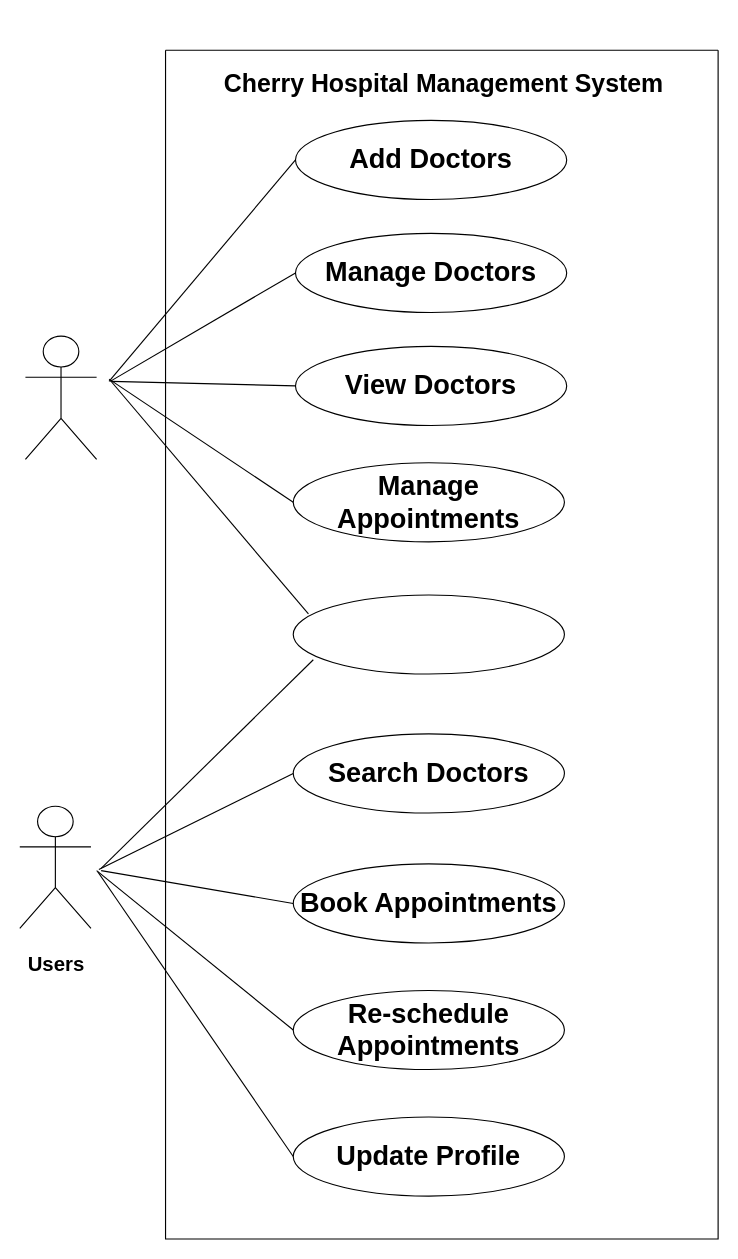
Some shapes in this 738 by 1259 pixel diagram are drawn without their labels. Here are the shapes that lost their labels. From the top down, the box of each, then its label:
(24, 335, 97, 459): Admin
(292, 594, 564, 674): View Appointments
